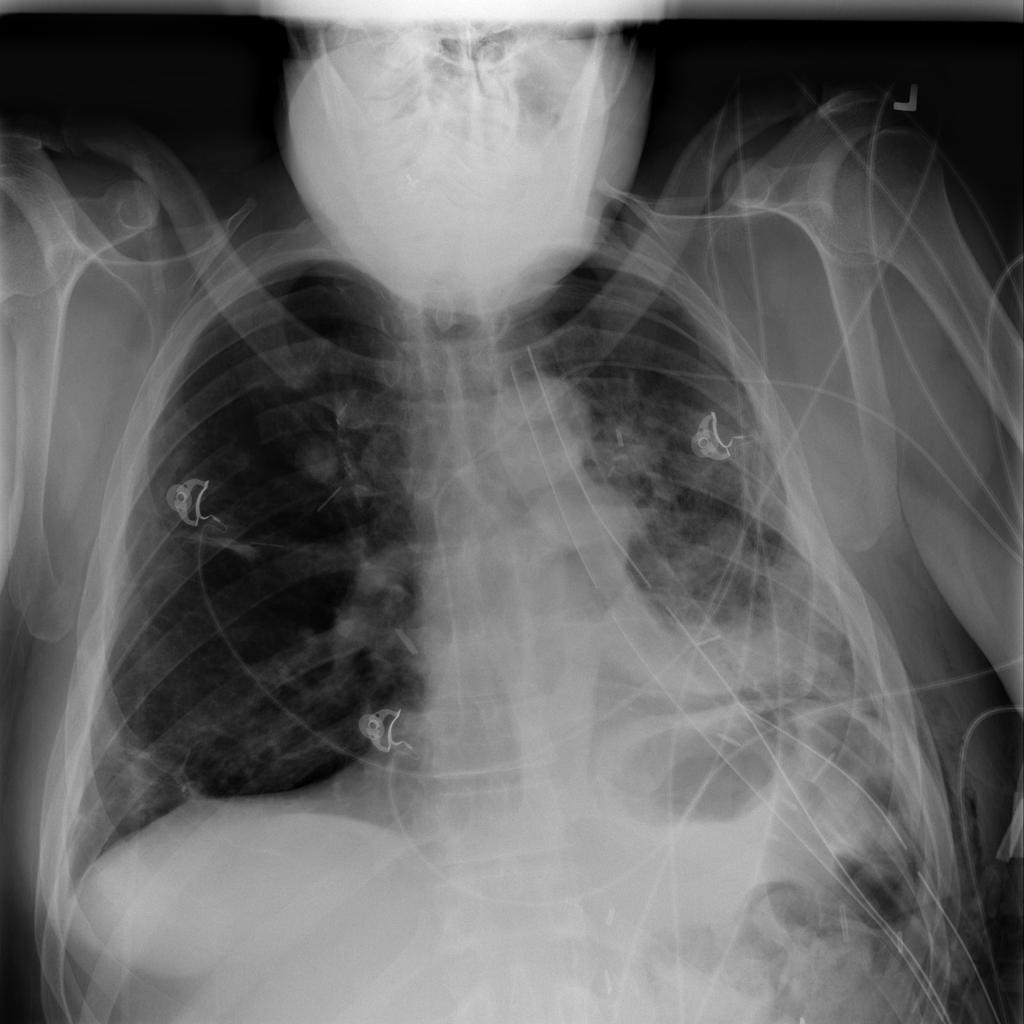nodule: (464, 363, 621, 518), (281, 424, 354, 496)
